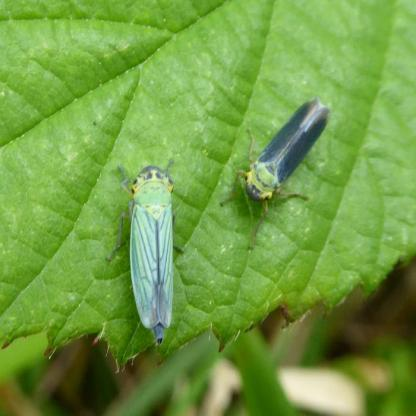Green-Leafhopper: (111, 144, 187, 348), (225, 94, 334, 223)
